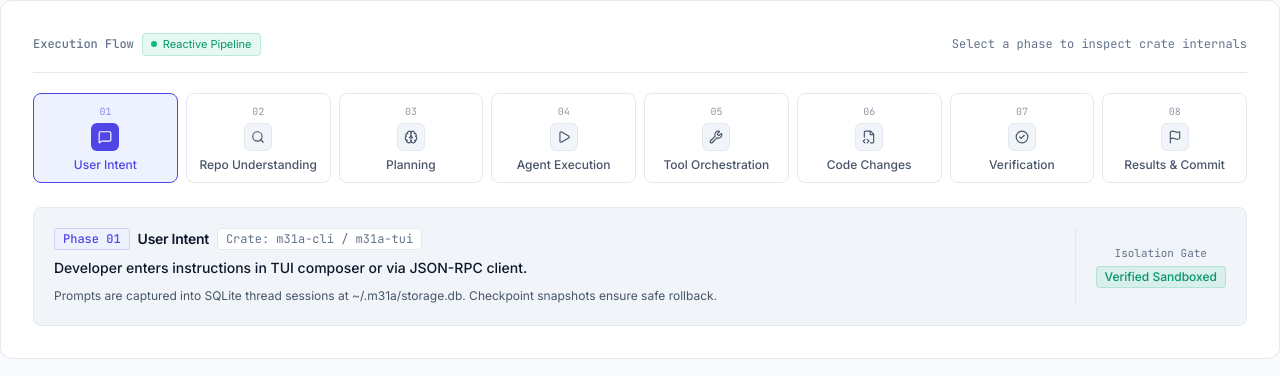
Test: Interactive Product Demonstrations › navigates through steps in AgentWorkflow and updates technical details
The image size is (1280, 376).
Check: the text "Phase 01" is shown, box [54,228,130,250]
Check: the text "Crate: m31a-cli / m31a-tui" is shown, box [217,228,422,250]
Note: Click Planning step
What coordinates should you click on to do the following:
click the button "03 Planning"
I would click on:
 (411, 138)
Its box is [338,92,483,182].
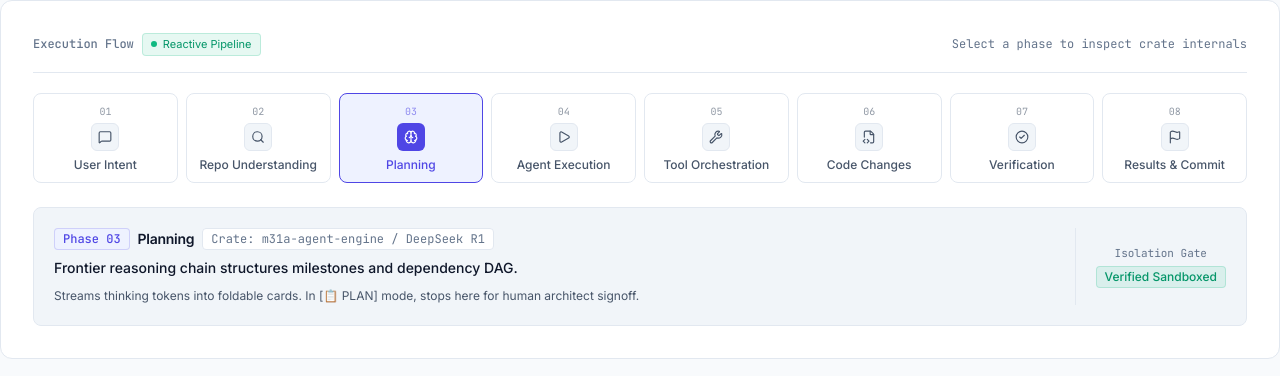
Check: the text "Phase 03" is shown, box [54,228,130,250]
Check: the text "Crate: m31a-agent-engine / DeepSeek R1" is shown, box [202,228,494,250]
